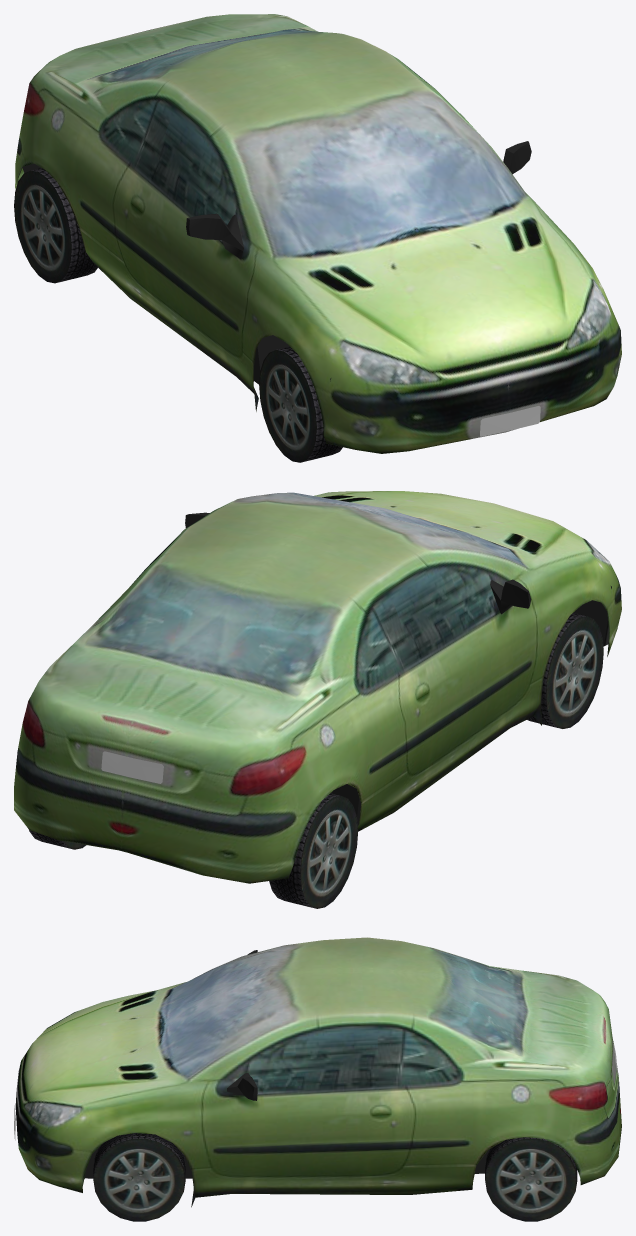
Rendered from car01.FBX.
3 renders of one model, top to bottom at view 1: azimuth 30°, elevation 25°; view 2: azimuth 150°, elevation 25°; view 3: azimuth 270°, elevation 25°, orthographic. The views are drawn at different scales.
Parts seen in each view (by area): view 1: car76, rueda002, rueda01; view 2: car76, rueda002, rueda01; view 3: car76, rueda003, rueda004.
Part boxes in pixels (x1,y1,x2,y2): car76: [15, 14, 621, 453]; rueda002: [14, 168, 97, 283]; rueda01: [259, 346, 342, 462]; car76: [14, 491, 621, 883]; rueda002: [269, 793, 358, 908]; rueda01: [527, 612, 603, 728]; car76: [14, 937, 621, 1207]; rueda003: [93, 1133, 185, 1221]; rueda004: [485, 1137, 577, 1221].
Bounding box in the file's own units: 2.01 × 1.4 × 3.86.
